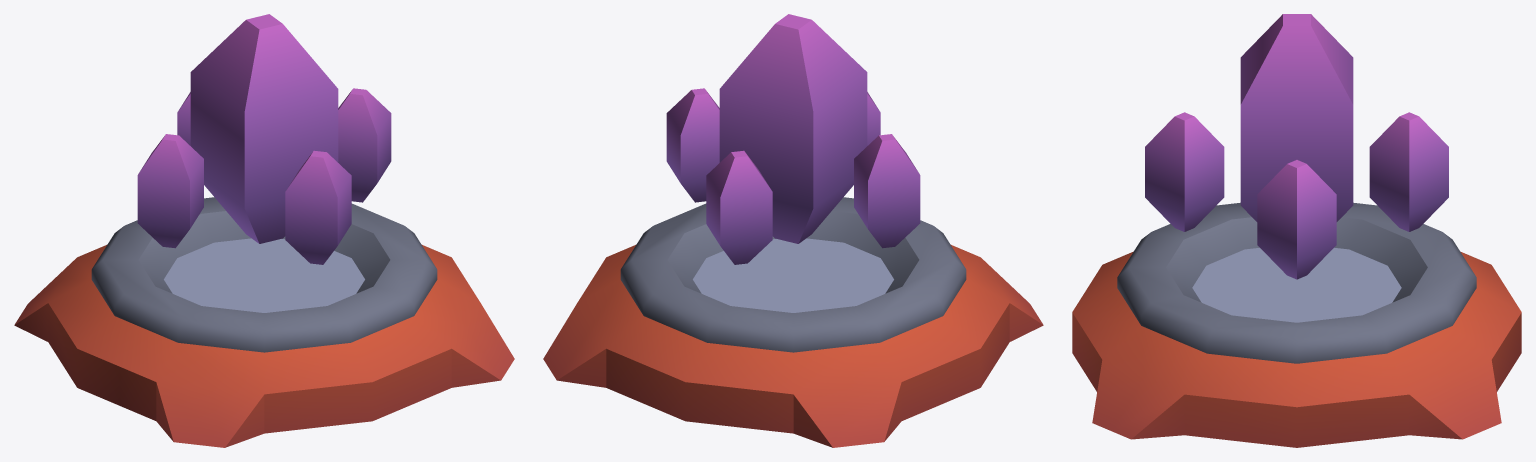
Rendered from tower-round-crystals.glb.
The picture shows the model from 3 angles, left to right: view 1: azimuth 30°, elevation 25°; view 2: azimuth 150°, elevation 25°; view 3: azimuth 270°, elevation 25°; orthographic projection. The views are drawn at different scales.
Parts seen in each view (by area): view 1: tower-round-crystals, crystal; view 2: tower-round-crystals, crystal; view 3: tower-round-crystals, crystal.
Boxes of the visible parts, left/top/right/bottom form: tower-round-crystals: left=14, top=197, right=514, bottom=447; crystal: left=137, top=14, right=391, bottom=264; tower-round-crystals: left=543, top=197, right=1043, bottom=447; crystal: left=666, top=14, right=920, bottom=264; tower-round-crystals: left=1072, top=202, right=1521, bottom=447; crystal: left=1145, top=14, right=1448, bottom=279.
Size of the model in its own units: 1 by 0.8175 by 1.
